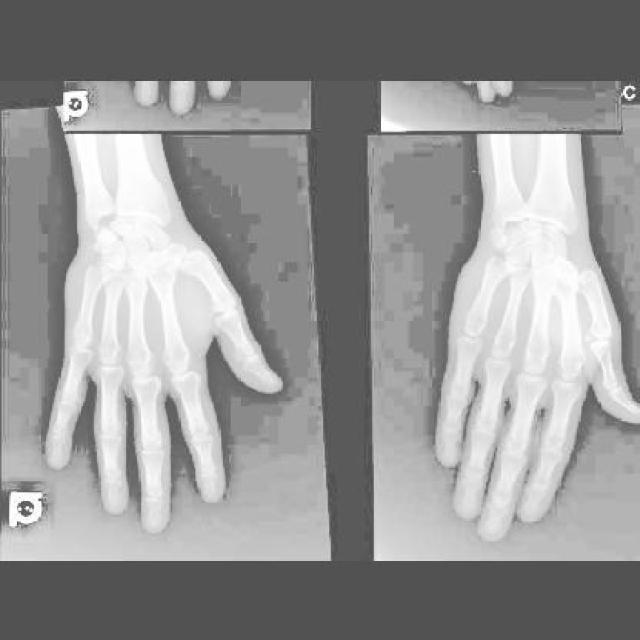Fracture: (175, 249, 200, 277), (569, 274, 588, 299)
